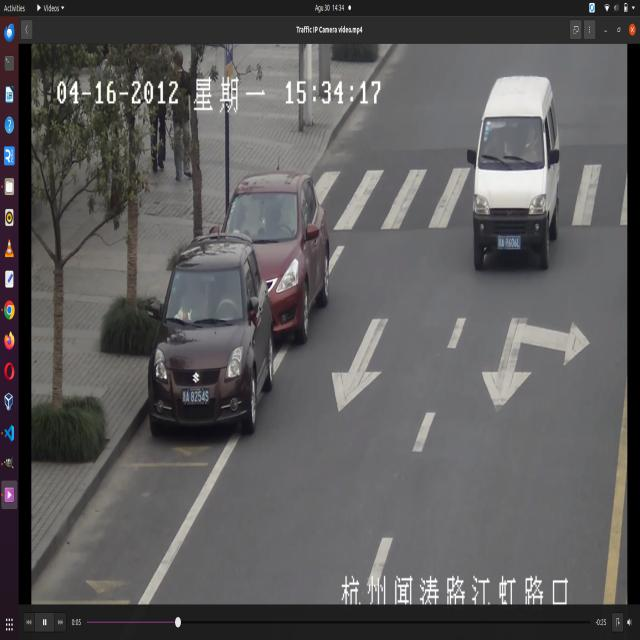person_with_seatbelt: (515, 116, 543, 172)
